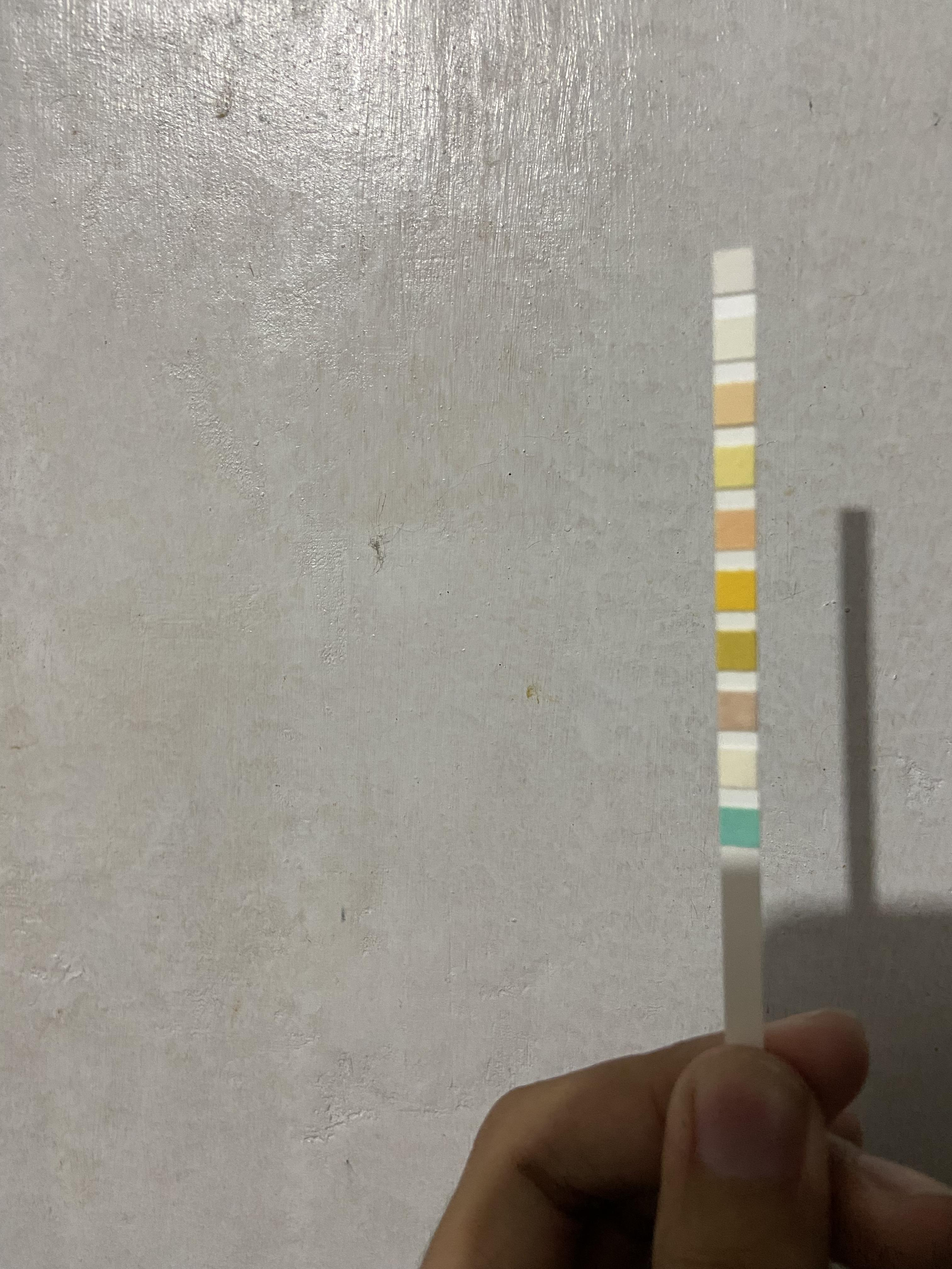Bilirubin: (720, 751, 754, 785)
Blood: (717, 574, 754, 607)
Glucose: (722, 812, 757, 845)
Ketone: (720, 695, 755, 729)
Leukocytes: (715, 257, 752, 290)
Nitrite: (715, 324, 754, 356)
Protein: (716, 449, 752, 484)
SpGravity: (718, 633, 755, 668)
Urobilinogen: (716, 386, 754, 421)
pH: (717, 512, 753, 546)
strip: (713, 248, 765, 1051)
